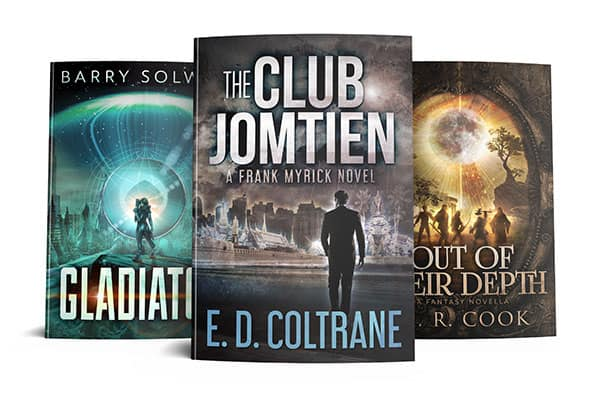book: (192, 33, 415, 362), (43, 62, 193, 340), (411, 60, 556, 339)
